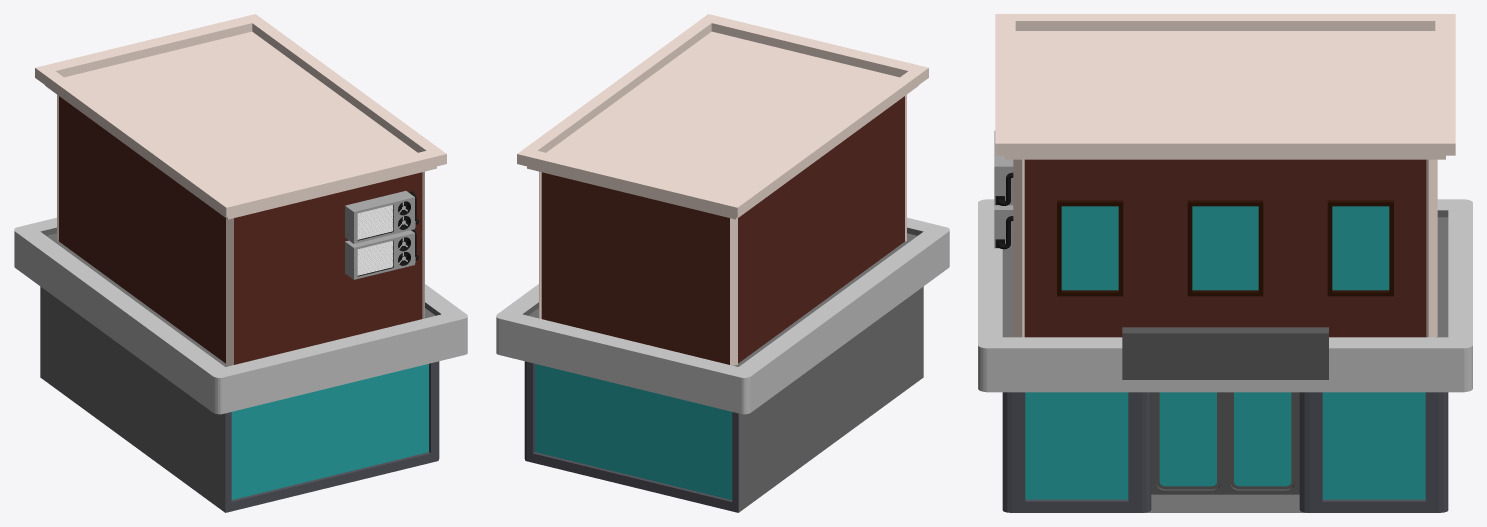
Rendered from VirtuSim.fbx.
3 views of the same model, side by side, from view 1: azimuth 30°, elevation 25°; view 2: azimuth 150°, elevation 25°; view 3: azimuth 270°, elevation 25° (orthographic). The views are drawn at different scales.
Parts seen in each view (by area): view 1: Cube.032, AC MODEL.011, AC MODEL.014; view 2: Cube.032; view 3: Cube.032, Cube.001, Cube, AC MODEL.011, AC MODEL.014.
Part boxes in pixels (<box>): Cube.032: <box>14,14,467,512</box>; AC MODEL.011: <box>345,191,418,243</box>; AC MODEL.014: <box>345,229,418,279</box>; Cube.032: <box>496,14,949,512</box>; Cube.032: <box>978,14,1472,512</box>; Cube.001: <box>1151,392,1299,494</box>; Cube: <box>1122,327,1328,379</box>; AC MODEL.011: <box>994,130,1013,205</box>; AC MODEL.014: <box>994,205,1013,249</box>.
Size of the model in its own units: 1425 by 1589 by 1922.
4 materials, 4 textured.
